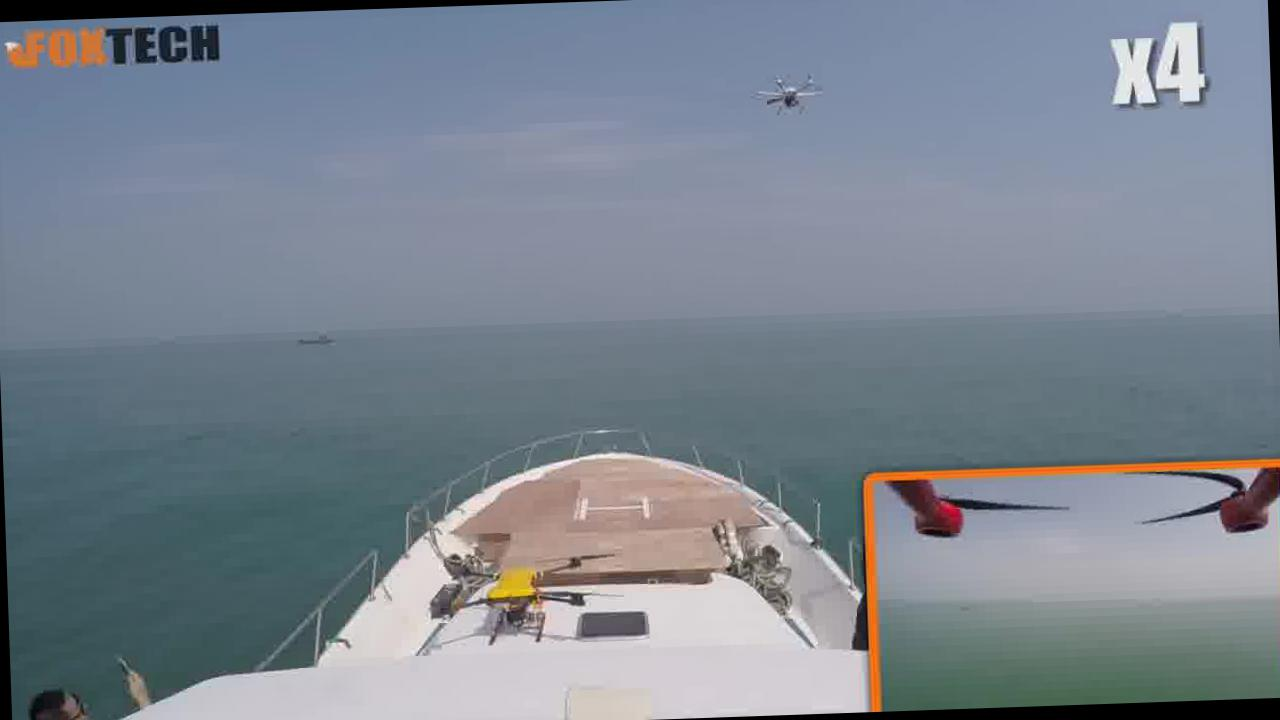drone: (422, 535, 601, 650), (739, 56, 830, 132)
